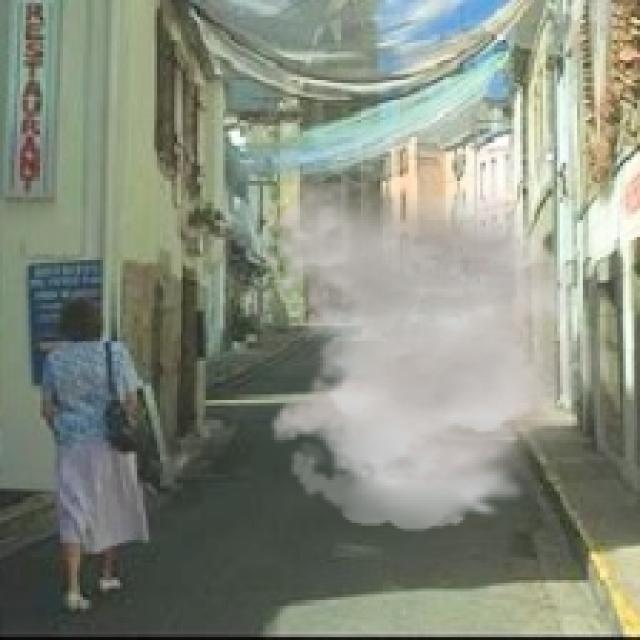smoke: (257, 177, 626, 532)
